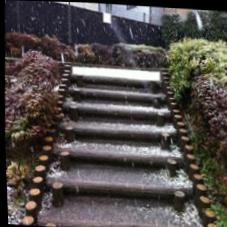Bench: (40, 65, 193, 227)
